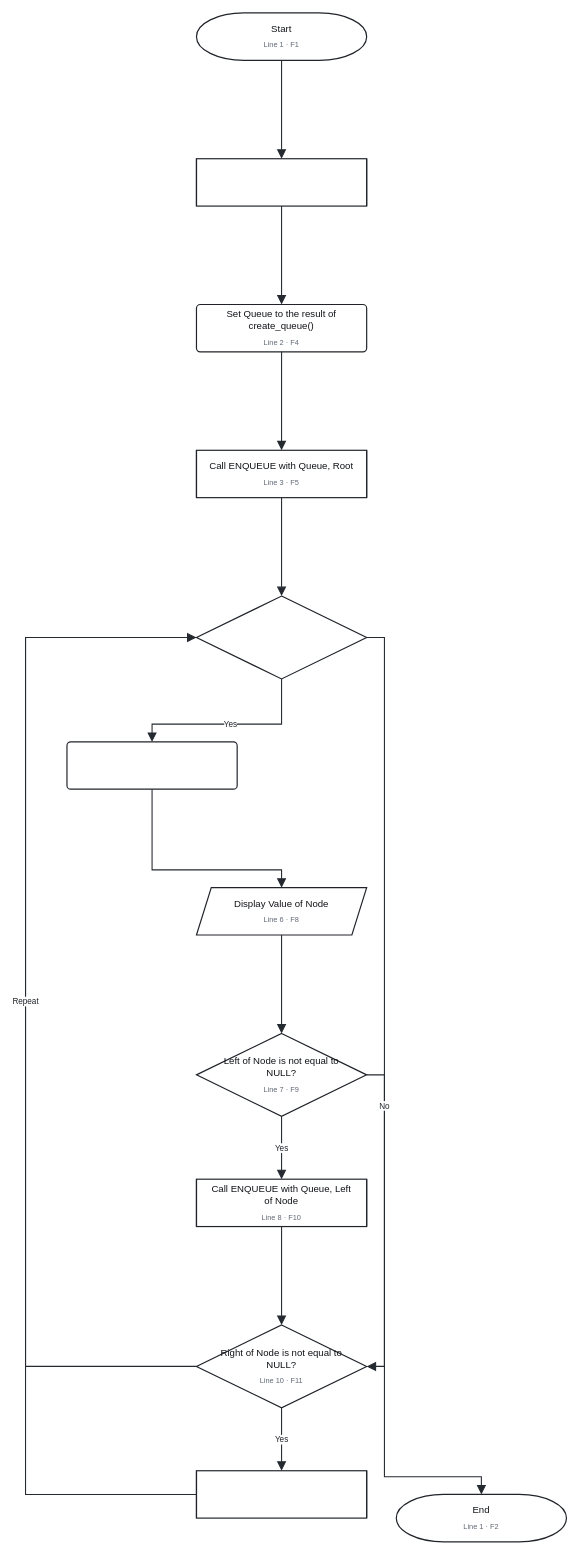
This 580x1555 diagram has some shape labels left out. The shapes that lost their labels are listed below. From the top down, each one's centre as x and y in pixels, then its label:
At pixel 281 182: "Run function unnamed_function with Root Line 1 · F3".
At pixel 281 637: "Continue while not the result of queue_is_empty(Queue)? Line 4 · F6".
At pixel 151 765: "Set Node to the result of DEQUEUE(Queue) Line 5 · F7".
At pixel 281 1494: "Call ENQUEUE with Queue, Right of Node Line 11 · F12".
